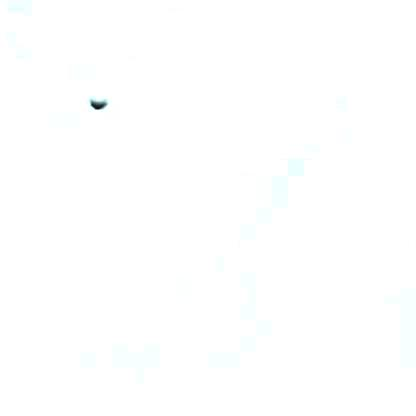golfball: (87, 88, 111, 110)
